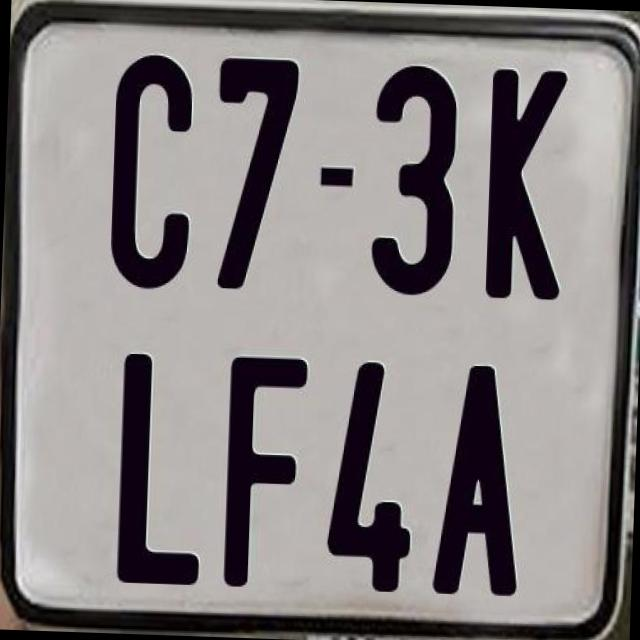3: (369, 63, 464, 301)
4: (323, 359, 418, 597)
7: (208, 56, 298, 294)
A: (429, 364, 529, 596)
C: (108, 51, 198, 292)
F: (221, 352, 308, 588)
K: (481, 64, 564, 296)
L: (112, 353, 206, 588)
